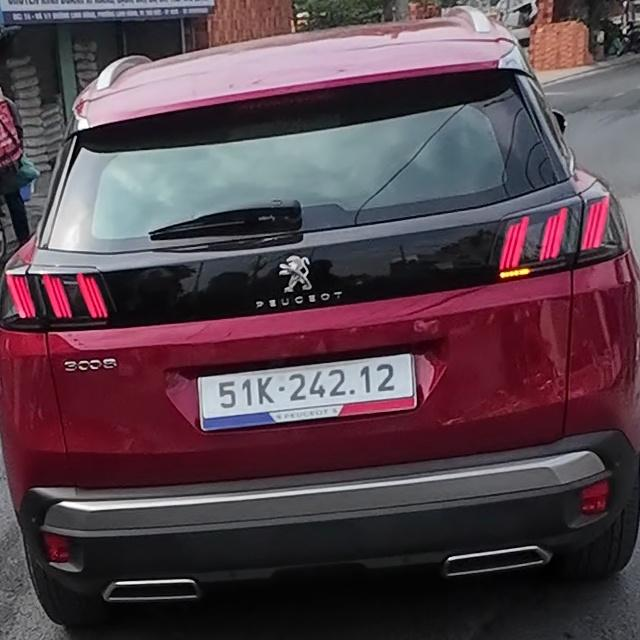license-plate: (201, 353, 414, 419)
